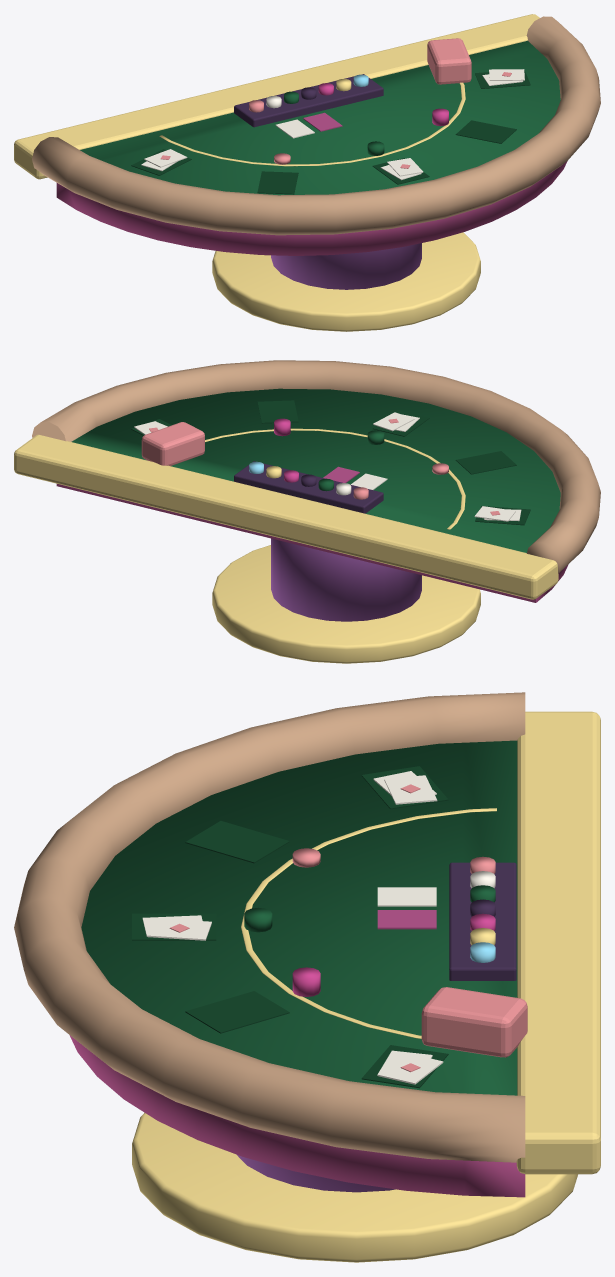
Rendered from pc_blackjack.glb.
The picture shows the model from 3 angles, top to bottom: view 1: azimuth 30°, elevation 25°; view 2: azimuth 150°, elevation 25°; view 3: azimuth 270°, elevation 25°; orthographic projection. The views are drawn at different scales.
Visible parts, largest first — view 1: pc_blackjack; view 2: pc_blackjack; view 3: pc_blackjack.
Part boxes in pixels (left/top/right/bottom): pc_blackjack: left=14, top=14, right=600, bottom=331; pc_blackjack: left=14, top=360, right=600, bottom=663; pc_blackjack: left=14, top=692, right=600, bottom=1262.
Bounding box in the file's own units: 3.64 × 1.1 × 2.09.
